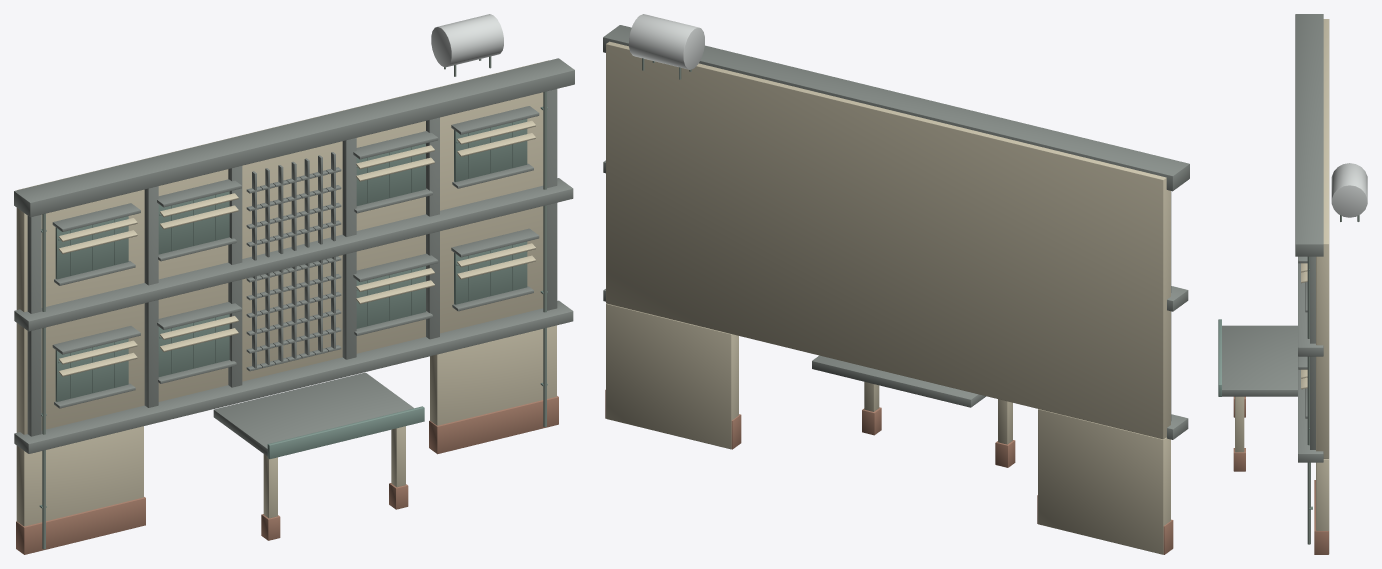
The model's file is CTCC_ENV_HospitalFacade.fbx.
The picture shows the model from 3 angles, left to right: view 1: azimuth 30°, elevation 25°; view 2: azimuth 150°, elevation 25°; view 3: azimuth 270°, elevation 25°; orthographic projection. The views are drawn at different scales.
Visible parts, largest first — view 1: CTCC_ENV_HospitalFacade_LOD0; view 2: CTCC_ENV_HospitalFacade_LOD0; view 3: CTCC_ENV_HospitalFacade_LOD0.
Boxes of the visible parts, x1=… form: CTCC_ENV_HospitalFacade_LOD0: x1=14, y1=14, x2=574, y2=554; CTCC_ENV_HospitalFacade_LOD0: x1=603, y1=14, x2=1189, y2=554; CTCC_ENV_HospitalFacade_LOD0: x1=1218, y1=14, x2=1367, y2=554.
Size of what is drawn, in the model's own units: 18.6 by 13.22 by 5.09.
